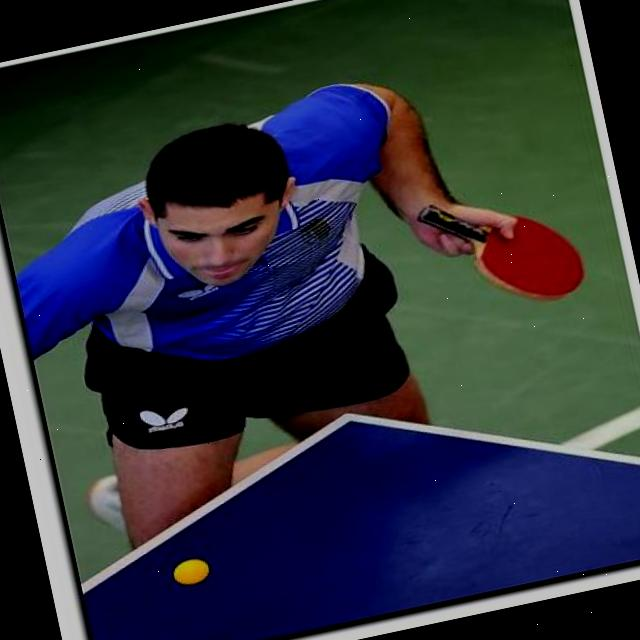ping-pong-ball: (168, 554, 210, 587)
